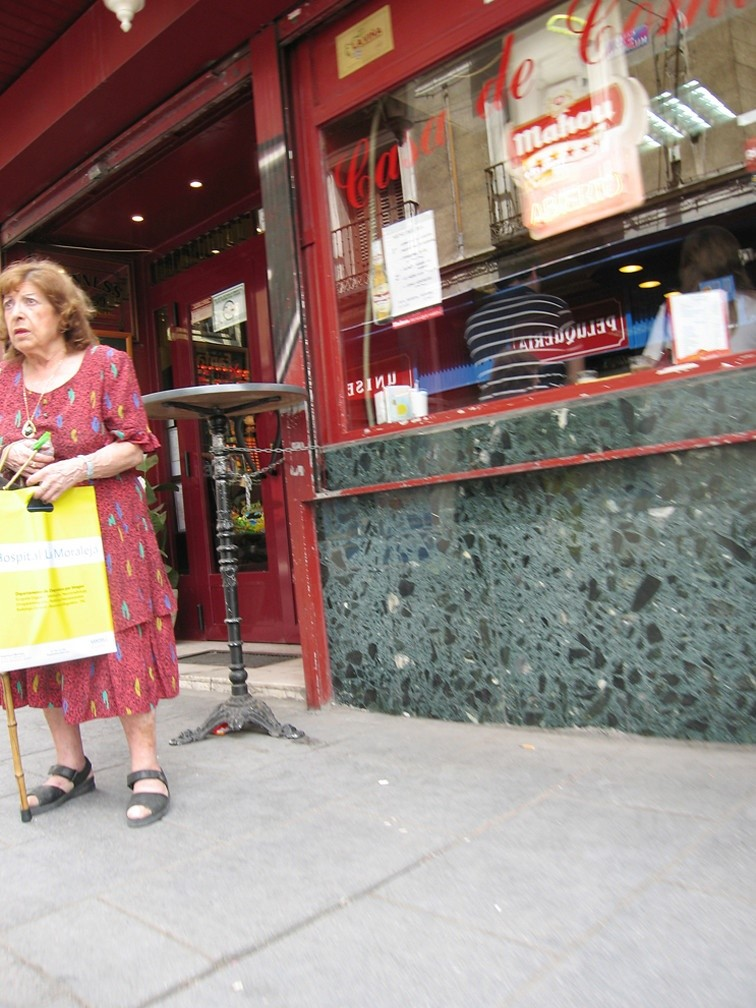face_no_mask: (0, 260, 84, 355)
